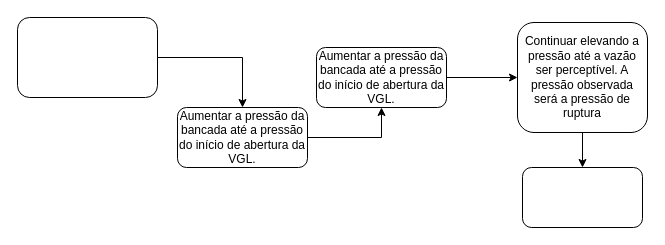
The diagram is 665 pixels wide and 245 high, and some of its shapes have lost their labels. Each missing label, with the centre of its shape:
"Despressurizar e retirar a VGL" goes at point (582, 197).
"Inserir VGL nos alojadores: Alojador 01 - VGL 1 ½” Alojador 02 - VGL 1”" goes at point (87, 57).
